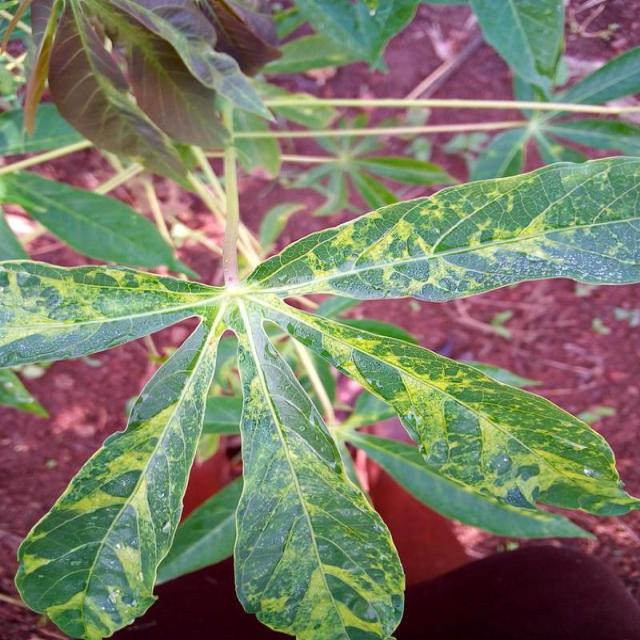cassava leaf: (2, 2, 640, 637), (14, 315, 229, 638), (232, 294, 406, 638), (245, 152, 640, 303)
